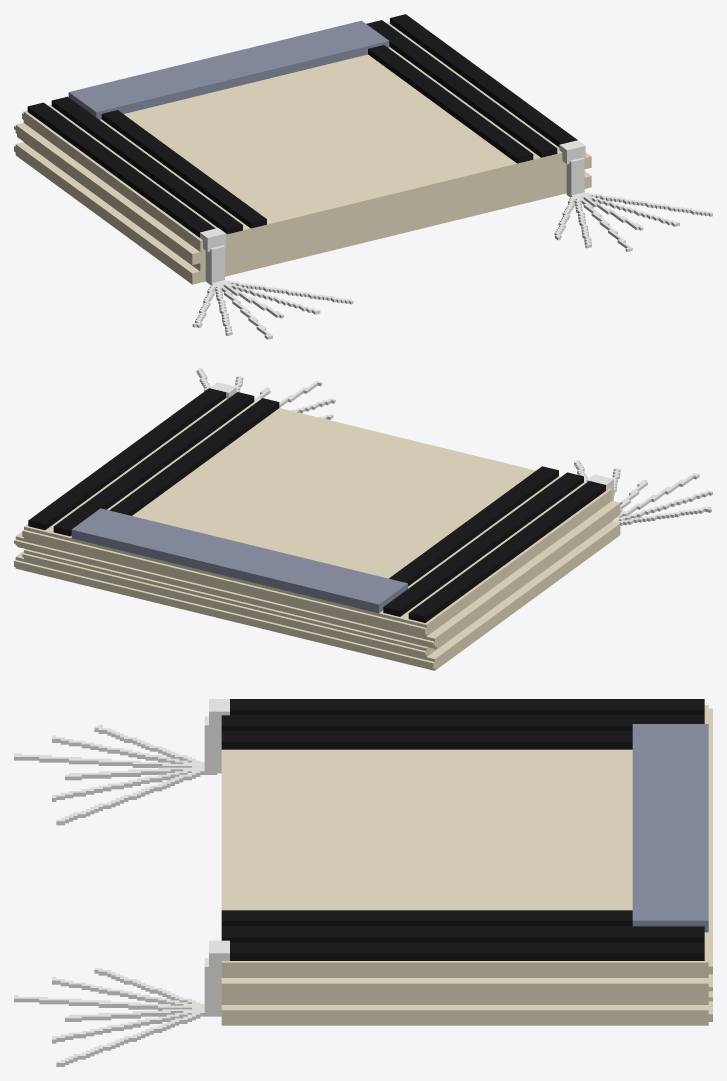
The model's file is tallit_gadol.glb.
The picture shows the model from 3 angles, top to bottom: view 1: azimuth 30°, elevation 25°; view 2: azimuth 150°, elevation 25°; view 3: azimuth 270°, elevation 25°; orthographic projection. The views are drawn at different scales.
Parts seen in each view (by area): view 1: tallit_gadol:compound; view 2: tallit_gadol:compound; view 3: tallit_gadol:compound.
Part boxes in pixels (x1,y1,x2,y2): tallit_gadol:compound: [14, 14, 712, 339]; tallit_gadol:compound: [14, 368, 712, 670]; tallit_gadol:compound: [14, 699, 712, 1066].
Bounding box in the file's own units: 0.378 × 0.036 × 0.33.
